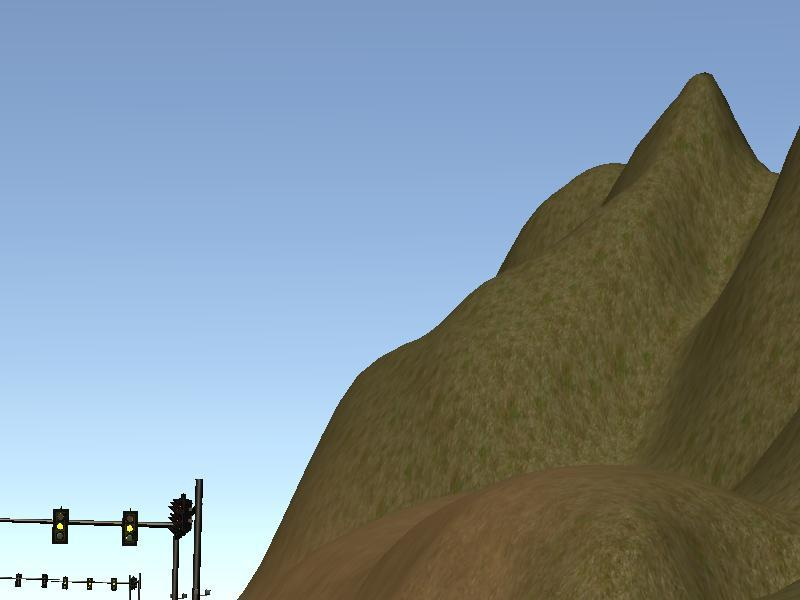Yellow: (120, 511, 138, 548), (51, 507, 68, 545)
